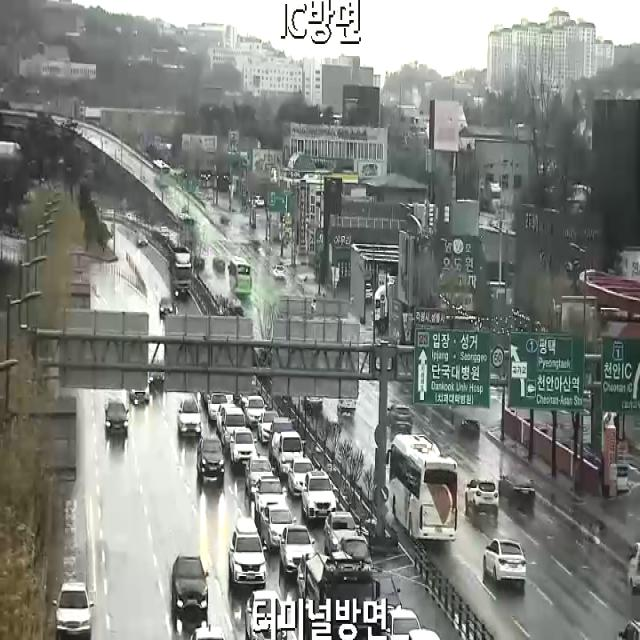Bus: (386, 434, 457, 540), (228, 256, 252, 295), (154, 160, 170, 187), (160, 297, 176, 318)
Car: (229, 517, 267, 584), (53, 582, 94, 636), (172, 555, 209, 613), (246, 590, 286, 640), (484, 539, 526, 584), (280, 525, 315, 573), (302, 470, 336, 518), (260, 506, 297, 550), (324, 510, 359, 554), (245, 452, 275, 497), (255, 476, 287, 516), (465, 480, 499, 517), (383, 608, 422, 640), (372, 571, 402, 611), (197, 436, 225, 477), (341, 536, 374, 569), (288, 457, 314, 496), (177, 394, 201, 436), (499, 475, 535, 503), (230, 429, 257, 465), (221, 408, 244, 449), (105, 401, 129, 434), (387, 404, 413, 433), (245, 396, 267, 428), (258, 411, 278, 443), (628, 542, 640, 593), (216, 404, 236, 433), (207, 393, 228, 420), (130, 375, 150, 403), (190, 625, 226, 640), (458, 419, 480, 441), (618, 619, 639, 640), (408, 628, 440, 640), (337, 397, 356, 414), (302, 394, 322, 410), (148, 370, 164, 386), (274, 266, 286, 280), (213, 258, 224, 272), (250, 196, 264, 205), (366, 283, 372, 301), (137, 237, 148, 245)
Truck: (298, 550, 380, 640), (272, 432, 305, 475), (166, 246, 192, 298), (374, 284, 393, 333), (269, 418, 292, 454)
